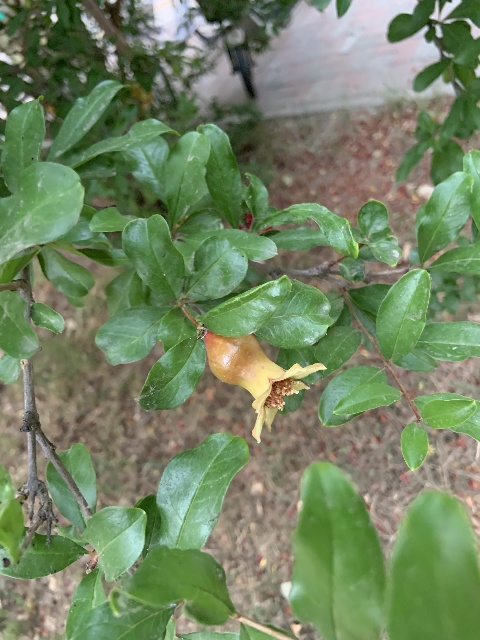early-fruit: (203, 329, 324, 441)
